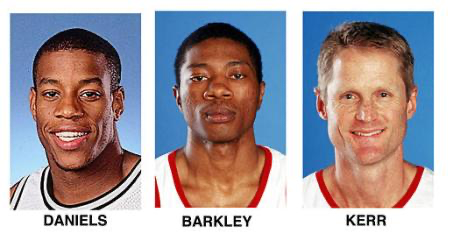Face: (28, 70, 118, 169), (322, 70, 410, 164), (182, 54, 257, 140)
